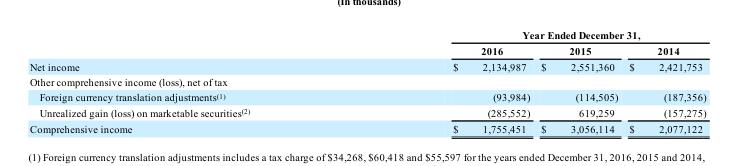table: (29, 28, 705, 134)
table column: (29, 28, 350, 134), (350, 28, 534, 134), (534, 28, 623, 134), (623, 28, 705, 134)
table column header: (29, 28, 705, 58)
table projected row header: (29, 73, 705, 89)
table row: (29, 42, 705, 58), (29, 73, 705, 89), (29, 104, 705, 120), (29, 58, 705, 73), (29, 89, 705, 104), (29, 28, 705, 42), (29, 120, 705, 134)
table spanning cell: (350, 28, 705, 42)
